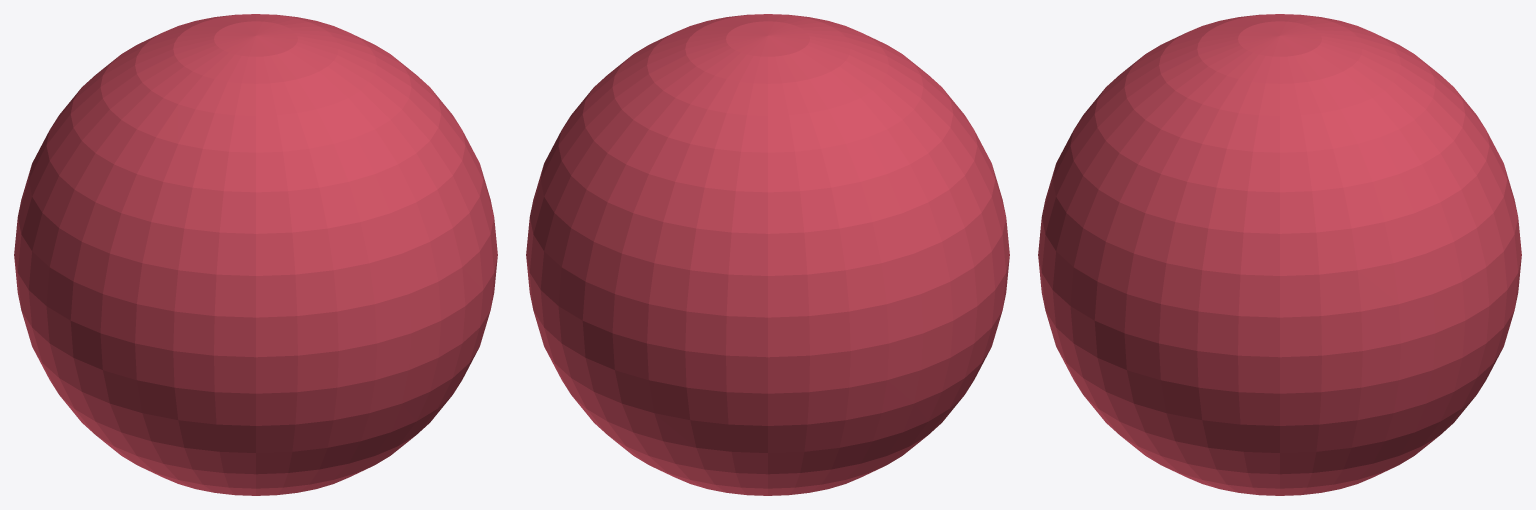
File: oxygen.glb
3 views of the same model, side by side, from view 1: azimuth 30°, elevation 25°; view 2: azimuth 150°, elevation 25°; view 3: azimuth 270°, elevation 25° (orthographic).
Parts seen in each view (by area): view 1: Mesh_Mesh_head_geo.001_lambert2SG.001; view 2: Mesh_Mesh_head_geo.001_lambert2SG.001; view 3: Mesh_Mesh_head_geo.001_lambert2SG.001.
Boxes of the visible parts, left/top/right/bottom form: Mesh_Mesh_head_geo.001_lambert2SG.001: left=14, top=14, right=497, bottom=495; Mesh_Mesh_head_geo.001_lambert2SG.001: left=526, top=14, right=1009, bottom=495; Mesh_Mesh_head_geo.001_lambert2SG.001: left=1038, top=14, right=1521, bottom=495.
Size of the model in its own units: 20 by 20 by 20.
